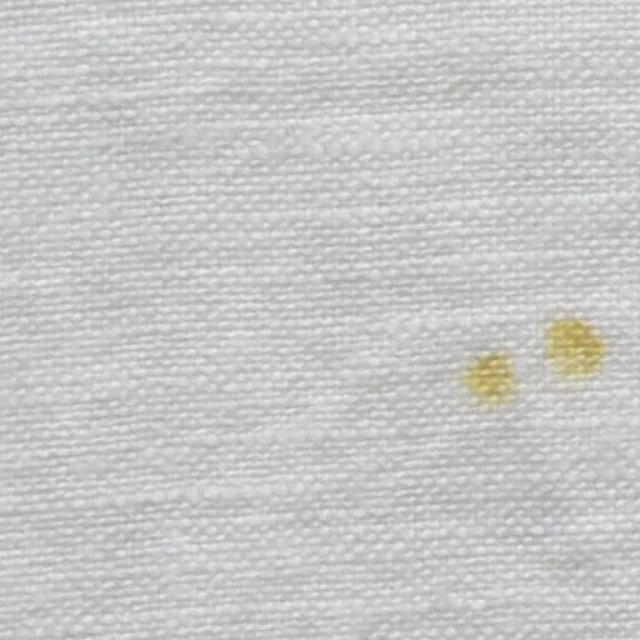Stain: (542, 310, 607, 386), (464, 347, 517, 411)
